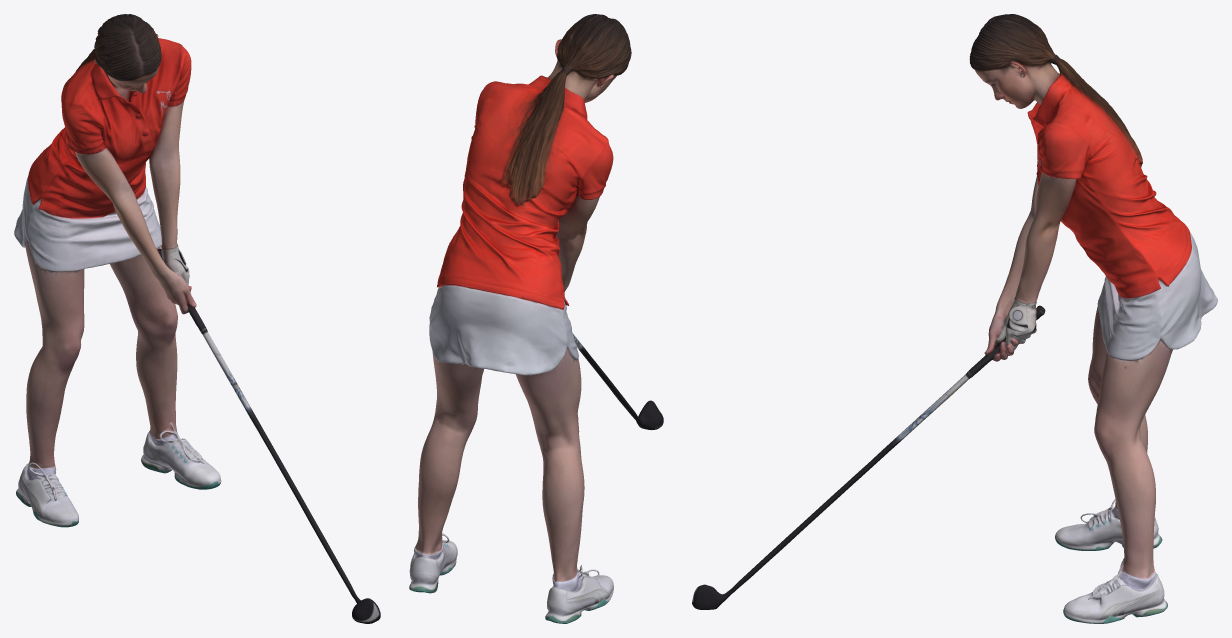
Rendered from young_golfer_girl.glb.
3 views of the same model, side by side, from view 1: azimuth 30°, elevation 25°; view 2: azimuth 150°, elevation 25°; view 3: azimuth 270°, elevation 25° (orthographic). The views are drawn at different scales.
Visible parts, largest first — view 1: desirefx.me_002; view 2: desirefx.me_002; view 3: desirefx.me_002.
Part boxes in pixels (left/top/right/bottom): desirefx.me_002: left=14, top=14, right=380, bottom=623; desirefx.me_002: left=409, top=14, right=663, bottom=623; desirefx.me_002: left=692, top=14, right=1217, bottom=623.
Size of the model in its own units: 0.1724 by 0.4875 by 0.4267.
Materials: 1 (1 with a texture image).
